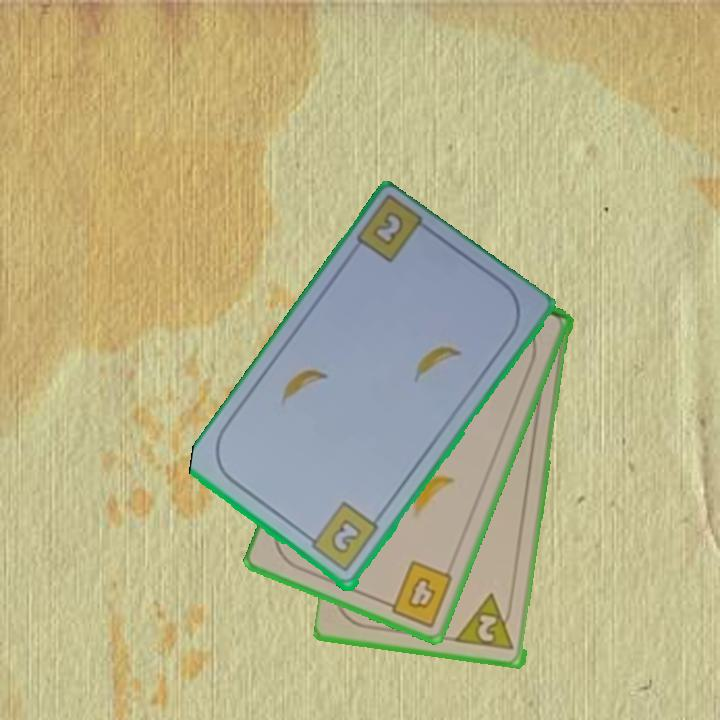2b: (302, 499, 381, 575), (372, 211, 404, 246)
2p: (454, 591, 518, 654)
4b: (378, 557, 456, 631)
